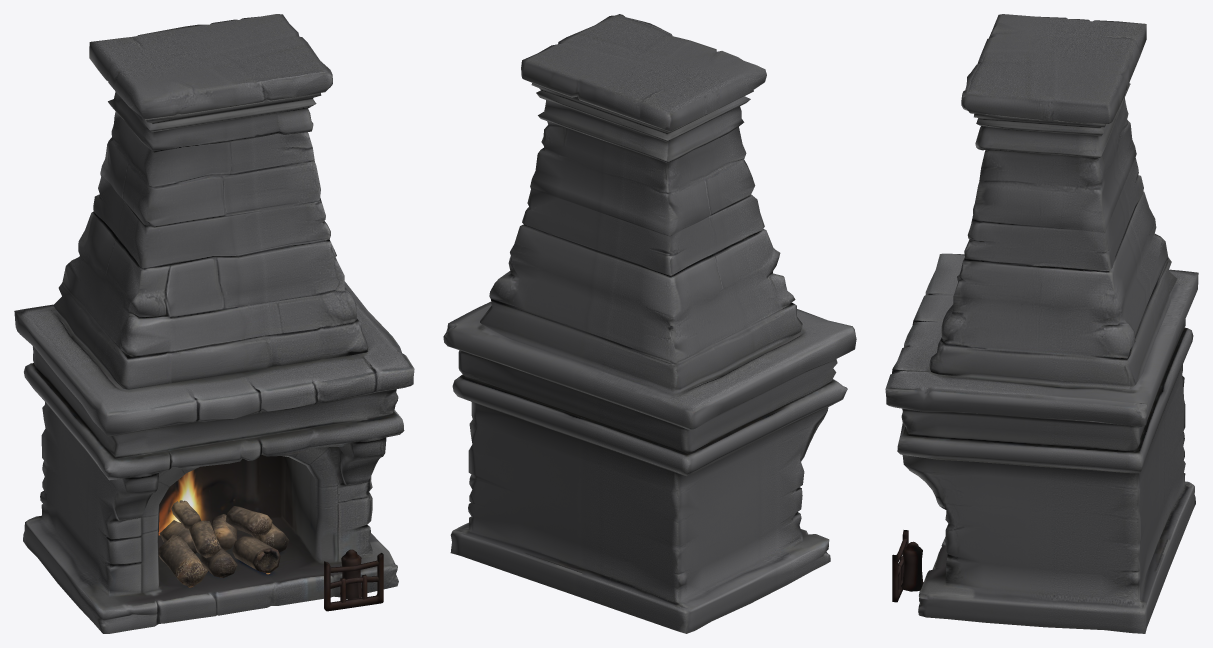
Rendered from camino.fbx.
3 renders of one model, left to right at view 1: azimuth 30°, elevation 25°; view 2: azimuth 150°, elevation 25°; view 3: azimuth 270°, elevation 25°, orthographic. The views are drawn at different scales.
Visible parts, largest first — view 1: tripo_node_0f9d1494; view 2: tripo_node_0f9d1494; view 3: tripo_node_0f9d1494.
Boxes of the visible parts, box(x1,y1,x2,y2) form: tripo_node_0f9d1494: box(14, 14, 414, 633); tripo_node_0f9d1494: box(443, 14, 856, 633); tripo_node_0f9d1494: box(885, 14, 1198, 633).
Size of the model in its own units: 0.6587 by 0.9995 by 0.561.
Materials: 1 (1 with a texture image).
